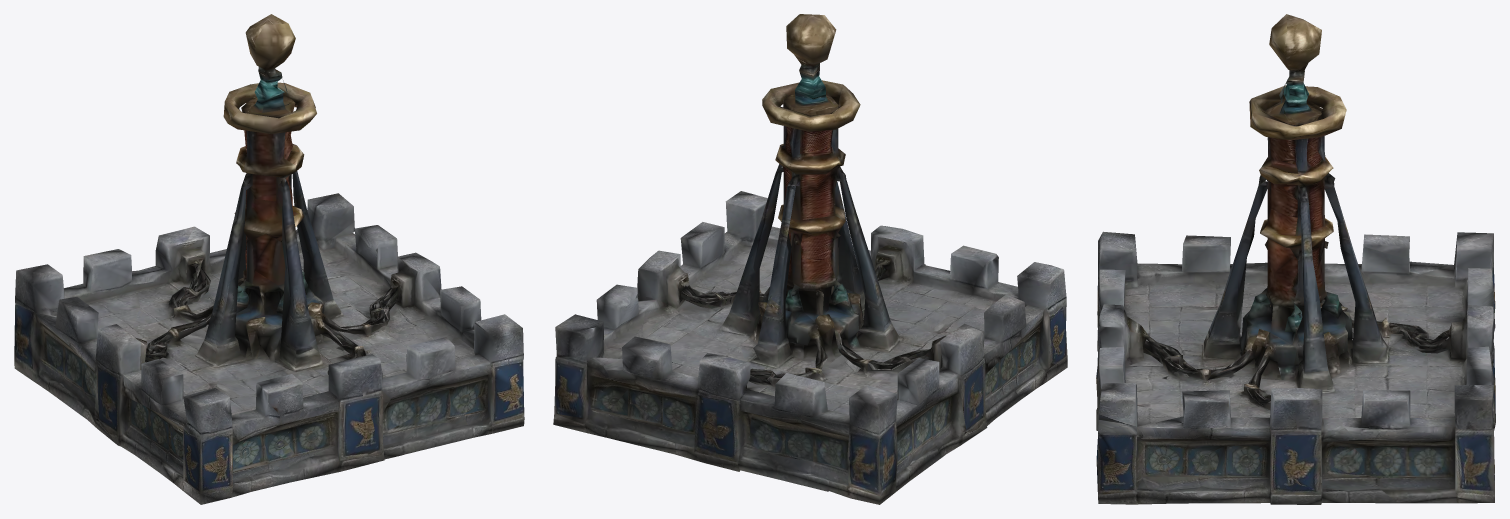
File: def_tesla.glb
3 renders of one model, left to right at view 1: azimuth 30°, elevation 25°; view 2: azimuth 150°, elevation 25°; view 3: azimuth 270°, elevation 25°, orthographic. The views are drawn at different scales.
Visible parts, largest first — view 1: tripo_node_9df39c3e-9b7c-485b-955a-53c49263fa82; view 2: tripo_node_9df39c3e-9b7c-485b-955a-53c49263fa82; view 3: tripo_node_9df39c3e-9b7c-485b-955a-53c49263fa82.
Boxes of the visible parts, left/top/right/bottom form: tripo_node_9df39c3e-9b7c-485b-955a-53c49263fa82: left=14, top=14, right=524, bottom=504; tripo_node_9df39c3e-9b7c-485b-955a-53c49263fa82: left=553, top=14, right=1067, bottom=504; tripo_node_9df39c3e-9b7c-485b-955a-53c49263fa82: left=1096, top=14, right=1495, bottom=504.
Size of the model in its own units: 0.8734 by 0.9712 by 0.8723.
Materials: 1 (1 with a texture image).
